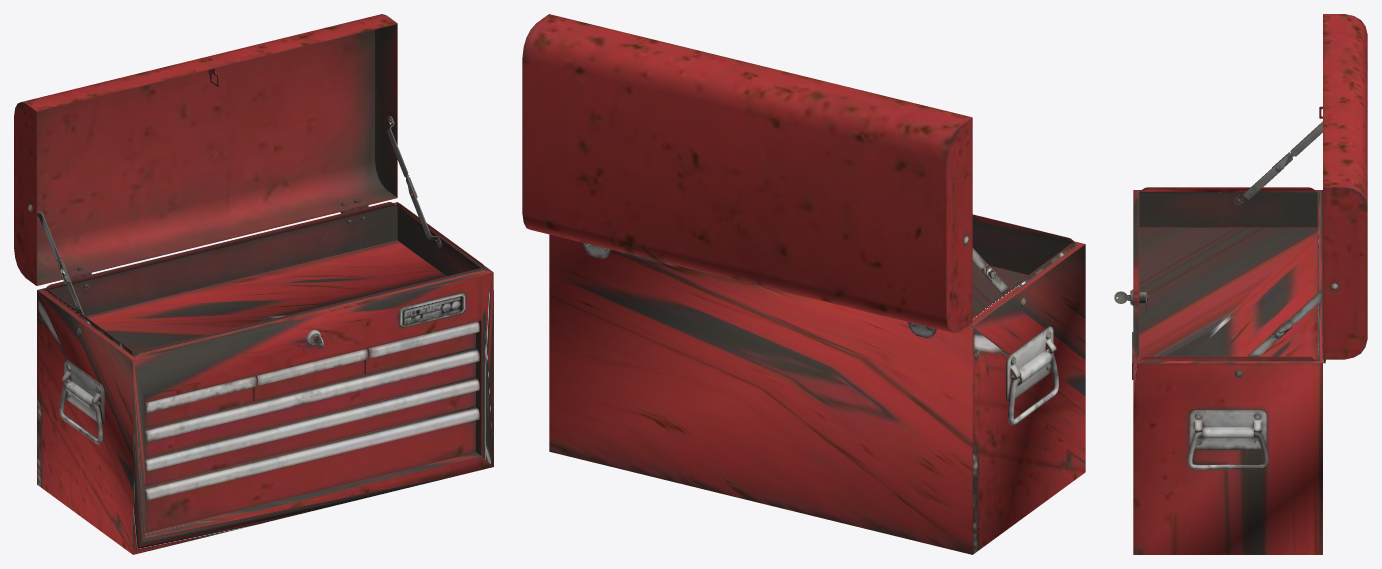
The model's file is metal_tool_chest.glb.
3 views of the same model, side by side, from view 1: azimuth 30°, elevation 25°; view 2: azimuth 150°, elevation 25°; view 3: azimuth 270°, elevation 25° (orthographic). The views are drawn at different scales.
Visible parts, largest first — view 1: metal_tool_chest_chest; view 2: metal_tool_chest_chest; view 3: metal_tool_chest_chest.
Part boxes in pixels (left/top/right/bottom): metal_tool_chest_chest: left=14, top=14, right=493, bottom=554; metal_tool_chest_chest: left=522, top=14, right=1085, bottom=554; metal_tool_chest_chest: left=1114, top=14, right=1367, bottom=554.
Size of the model in its own units: 0.6854 by 0.6518 by 0.4072.
Materials: 1 (1 with a texture image).
